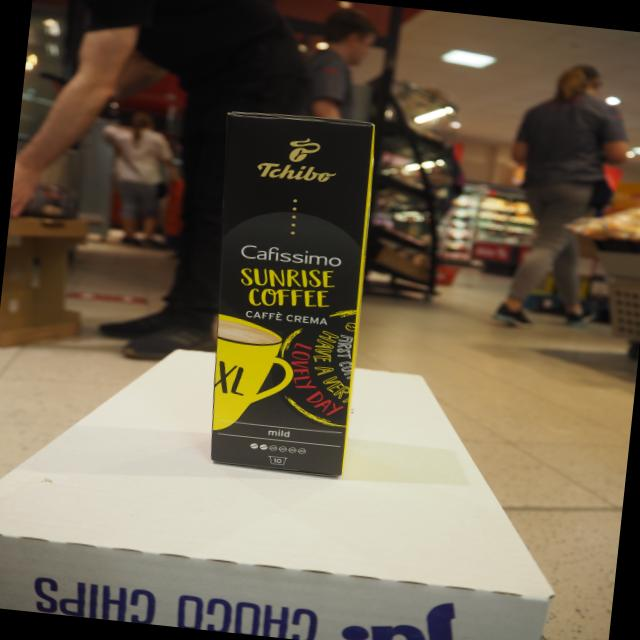Simo Sunrise: (206, 110, 376, 482)
